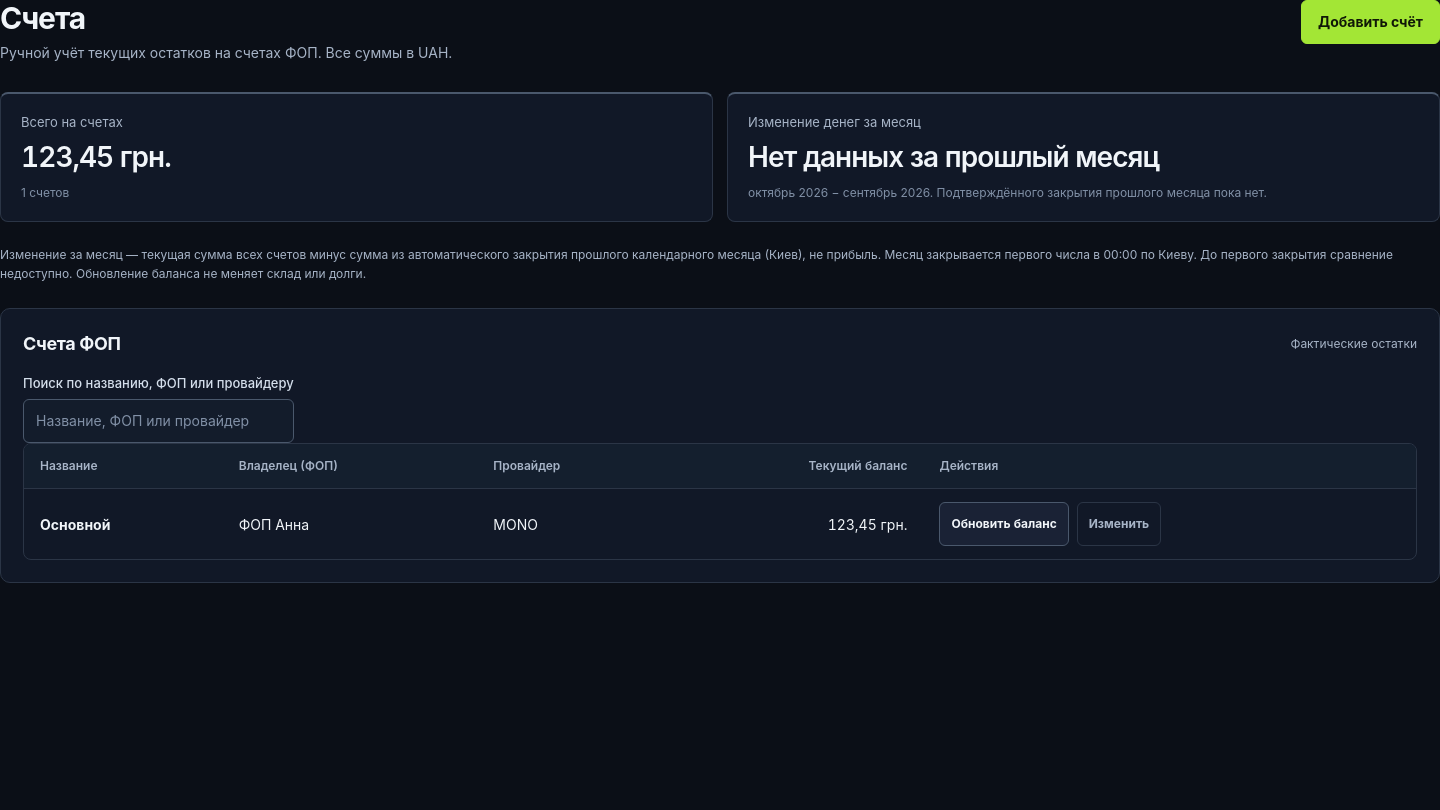
Test: AccountsPage › keeps conflict retry blocked when refresh resolves with a storage error
Click the button with aria-label "Обновить баланс: Основной, ФОП Анна" at (1004, 524), box [939,502,1069,546]
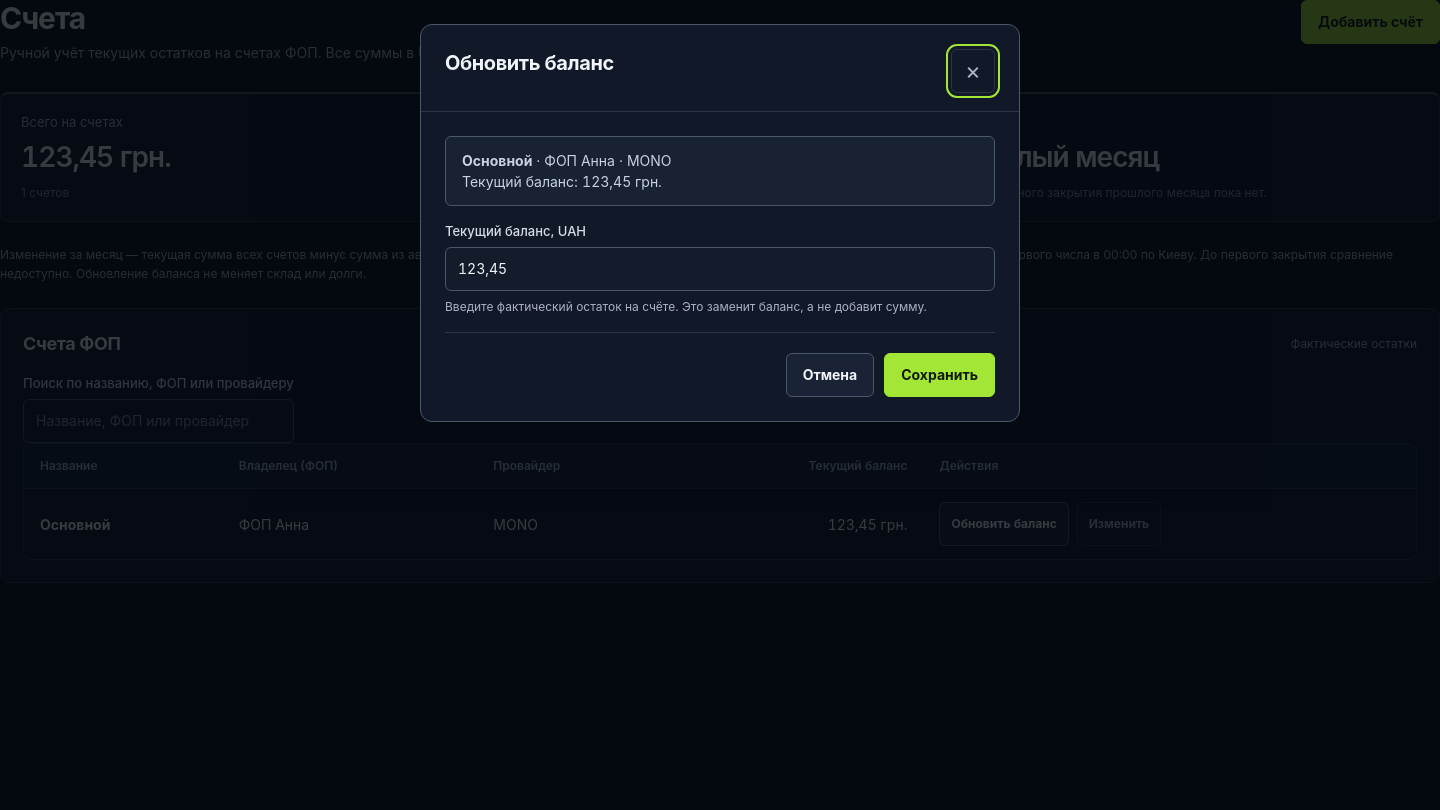
Click the button "Сохранить" at (940, 375), box [884,353,995,397]
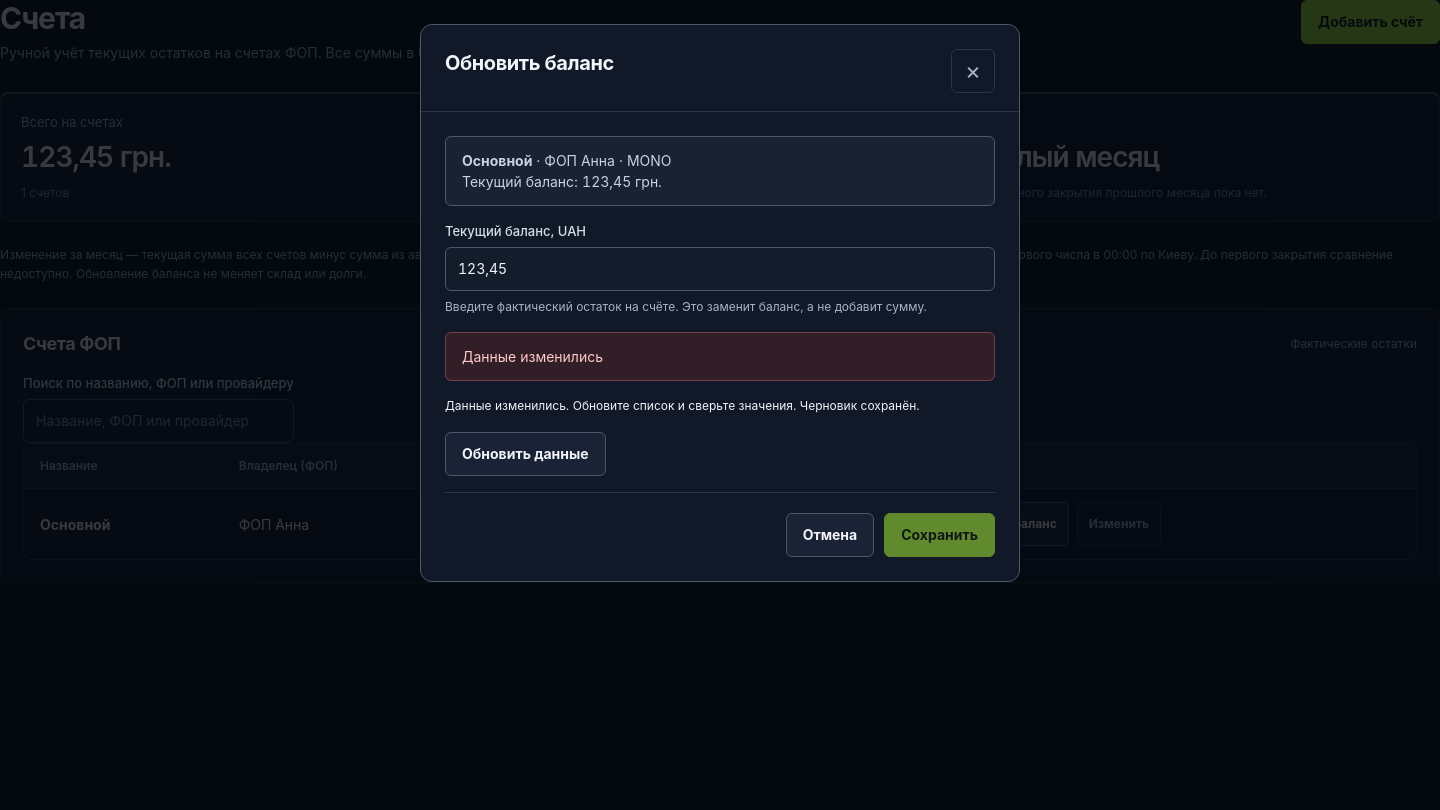
Click the button "Обновить данные" at (525, 454), box [445,432,606,476]
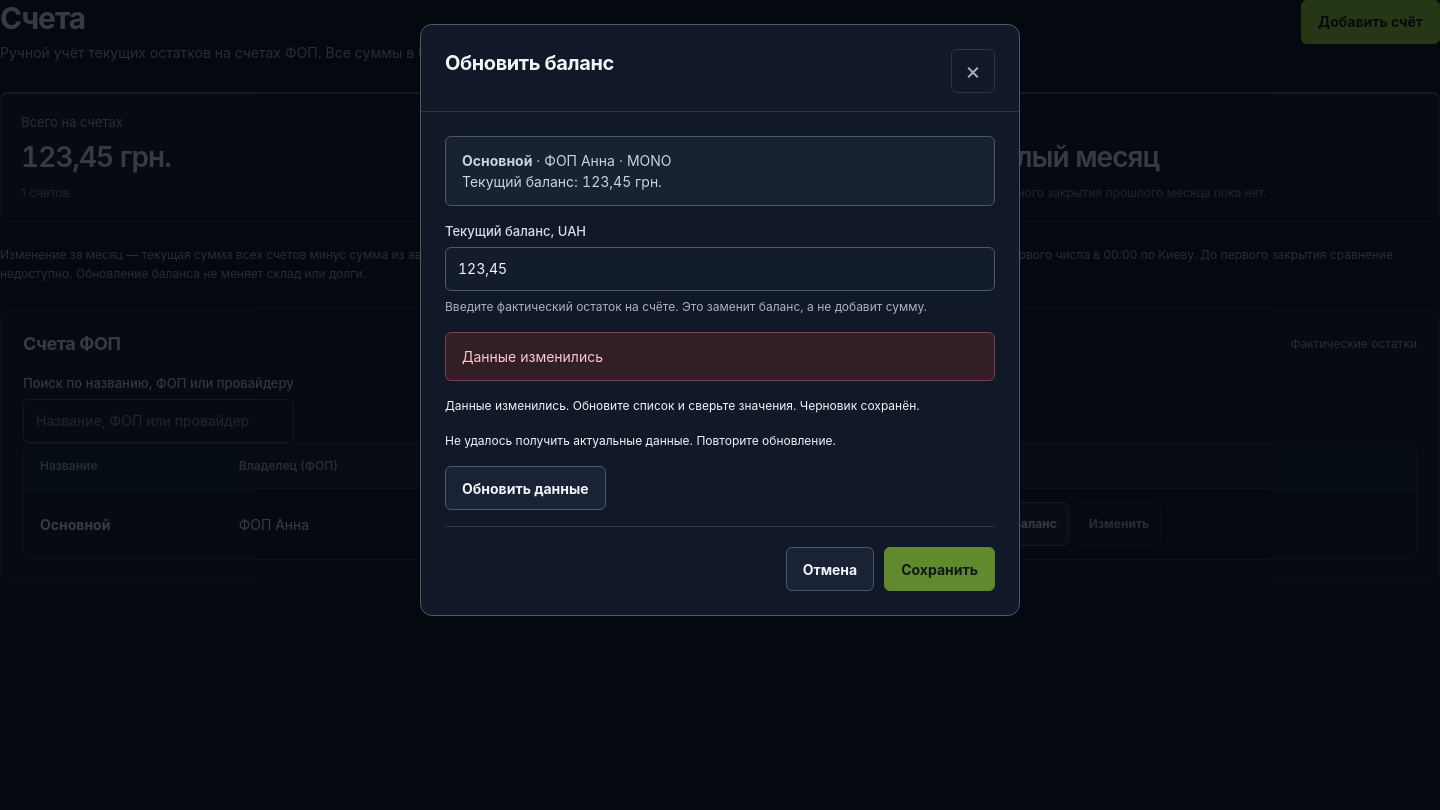
Now the field labelled "Текущий баланс, UAH" holds "123,45", box [445,247,995,291]
Now the text "Не удалось получить актуальные данные. Повторите обновление." is shown, box [445,433,836,448]
